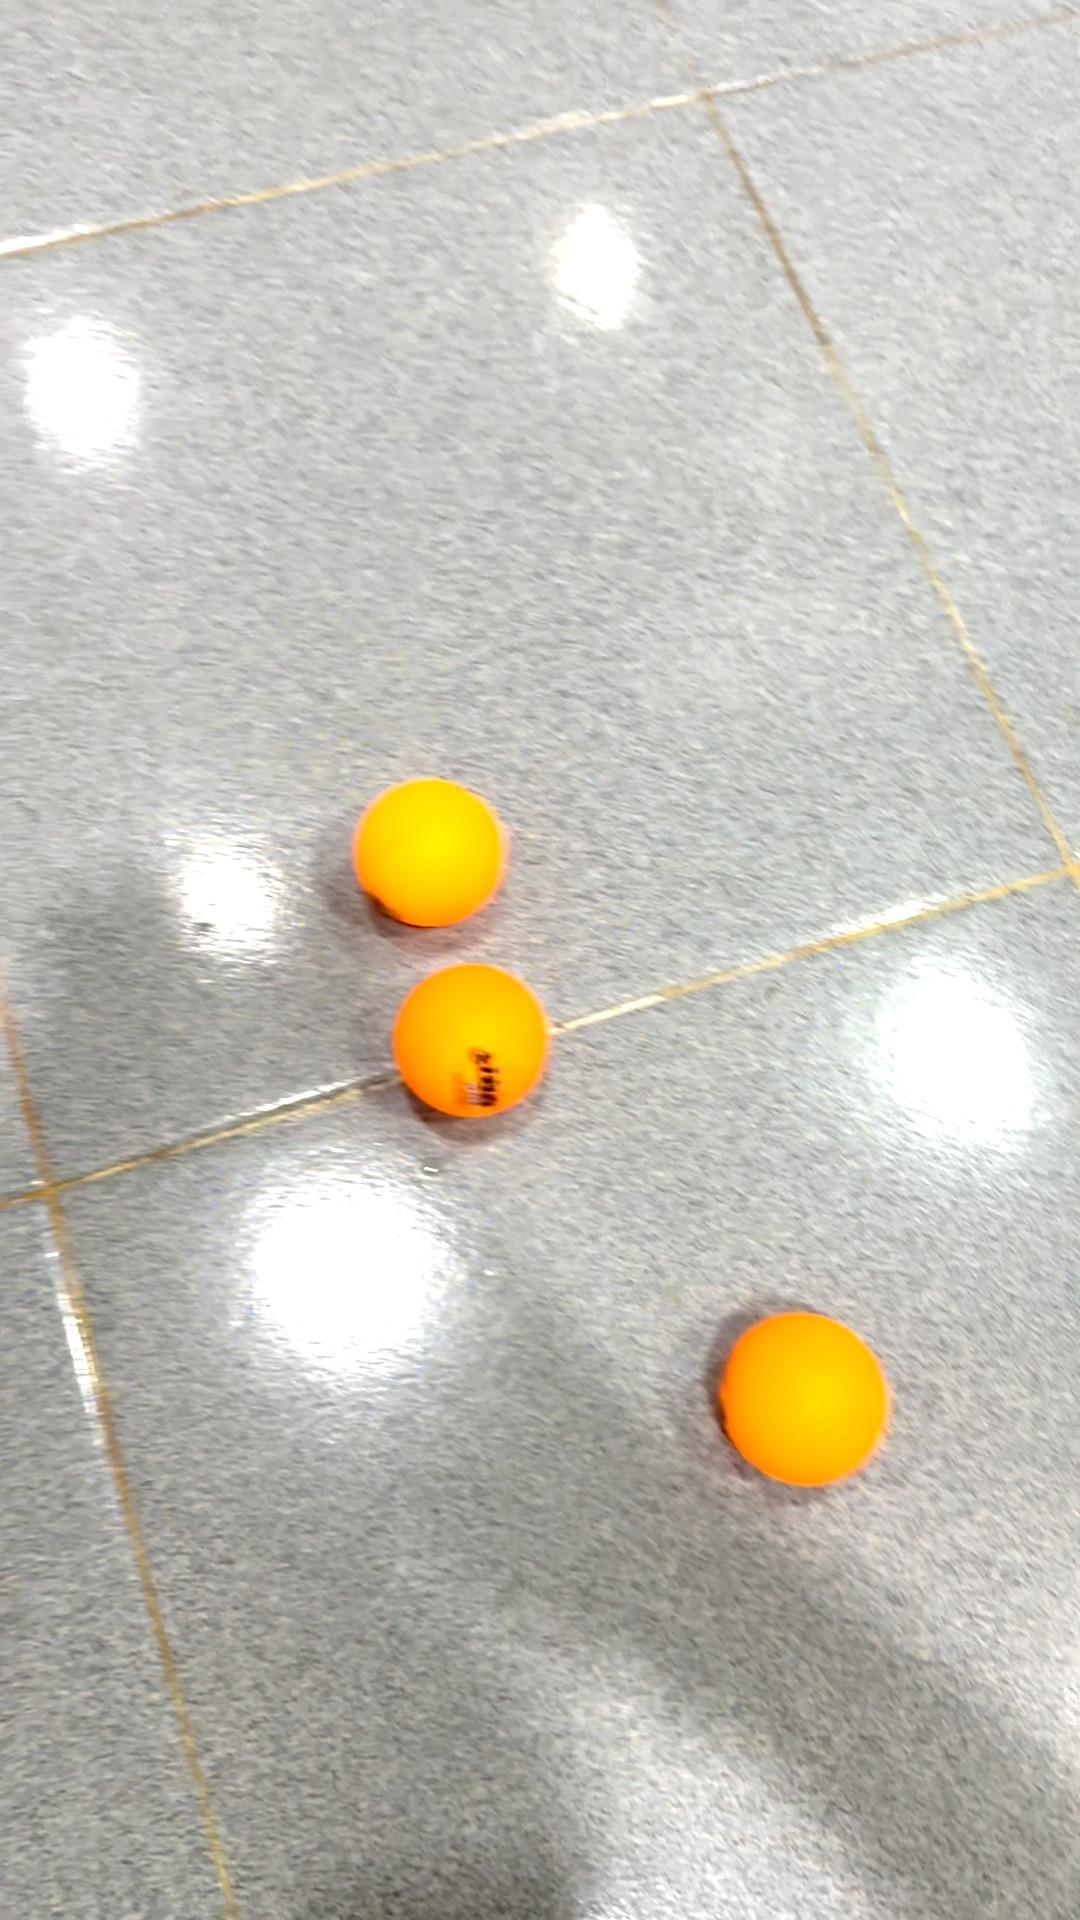oball: (708, 1308, 902, 1502), (388, 952, 559, 1135), (344, 767, 516, 926)
